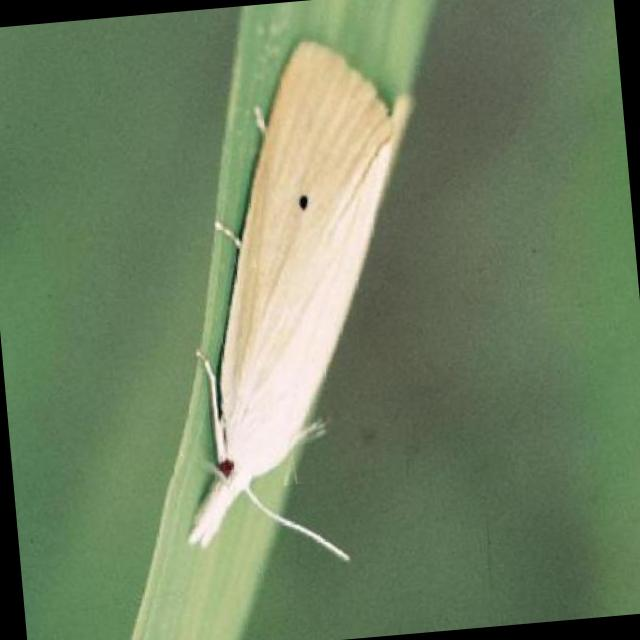stem-borer: (137, 26, 460, 558)
